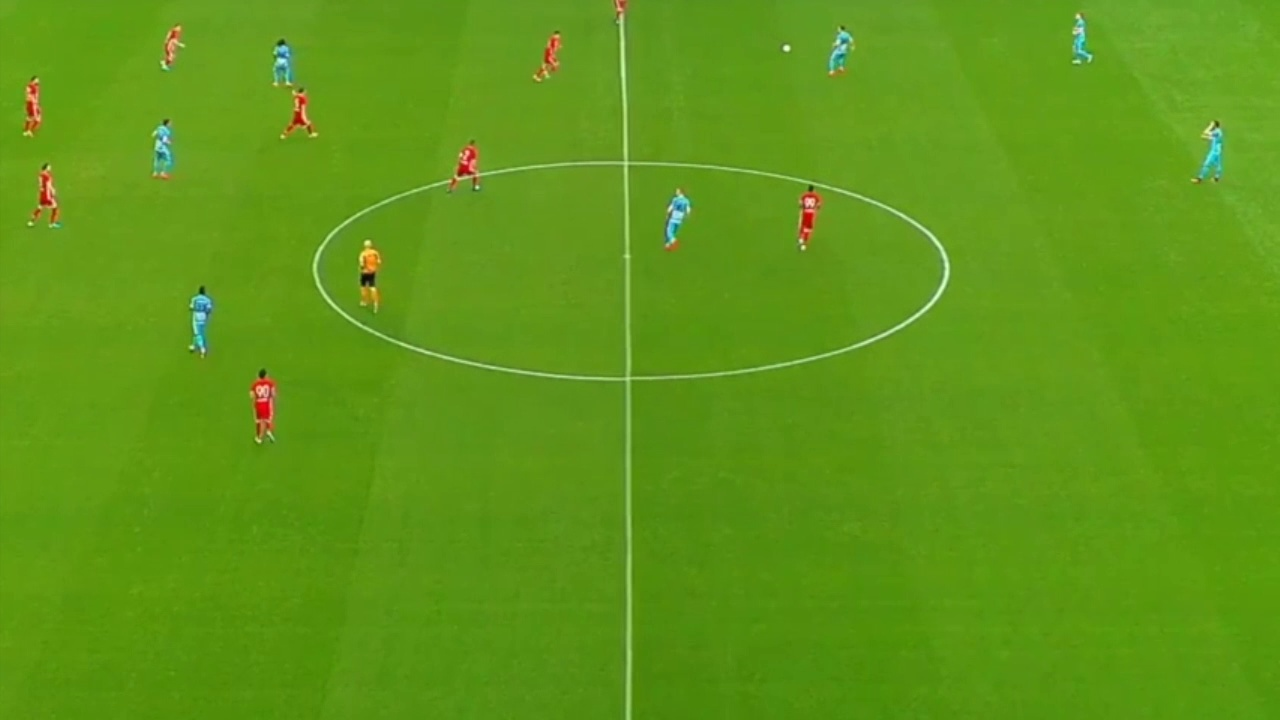ball: (782, 42, 791, 53)
person: (789, 180, 827, 251), (1193, 116, 1230, 181), (249, 365, 277, 447), (527, 29, 567, 86), (446, 136, 481, 194), (821, 20, 853, 81), (186, 280, 210, 355), (661, 183, 688, 248), (30, 158, 57, 220), (1064, 9, 1093, 63), (20, 73, 43, 136), (289, 86, 313, 136), (150, 120, 171, 173), (160, 23, 184, 68), (270, 38, 293, 83)
